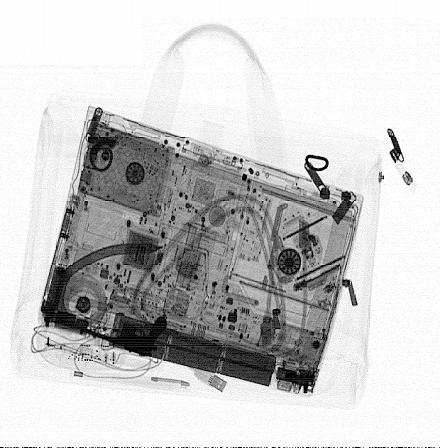Gun: (80, 315, 168, 357)
